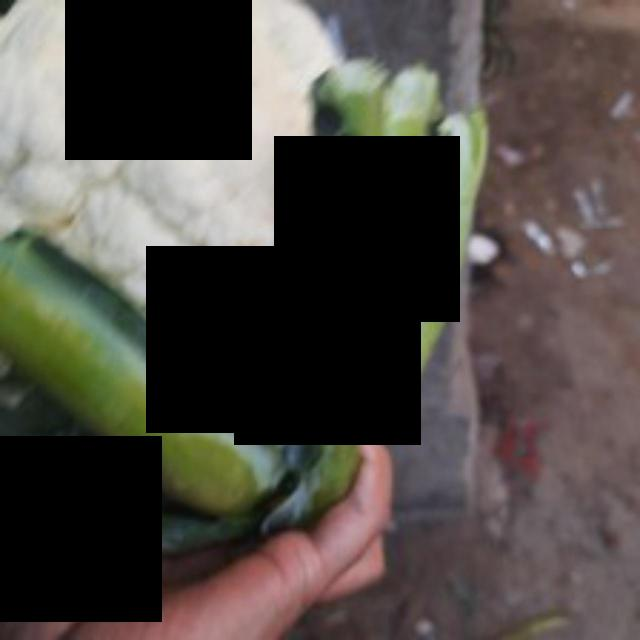cauliflower: (0, 0, 490, 580)
